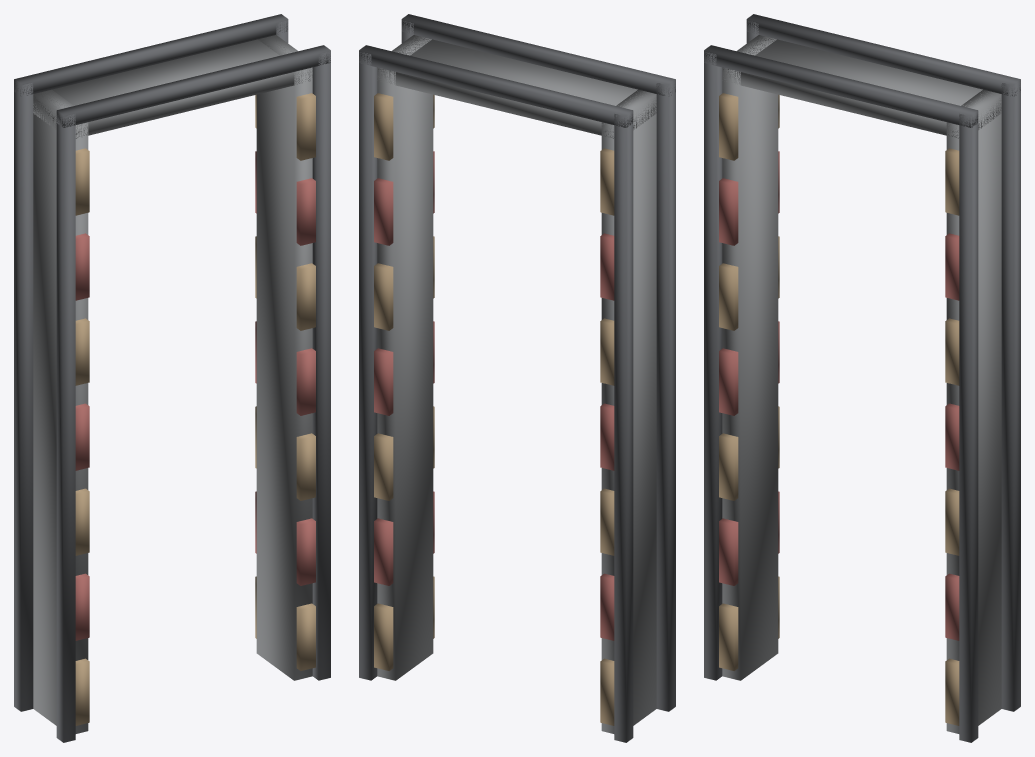
File: doorway_brick_return_w76_h210_d24.glb
3 views of the same model, side by side, from view 1: azimuth 30°, elevation 25°; view 2: azimuth 150°, elevation 25°; view 3: azimuth 330°, elevation 25° (orthographic).
Visible parts, largest first — view 1: world; view 2: world; view 3: world.
Boxes of the visible parts, left/top/right/bottom form: world: left=14, top=14, right=330, bottom=742; world: left=359, top=14, right=675, bottom=742; world: left=704, top=14, right=1020, bottom=742.
Bounding box in the file's own units: 0.9868 × 2.21 × 0.3165.
